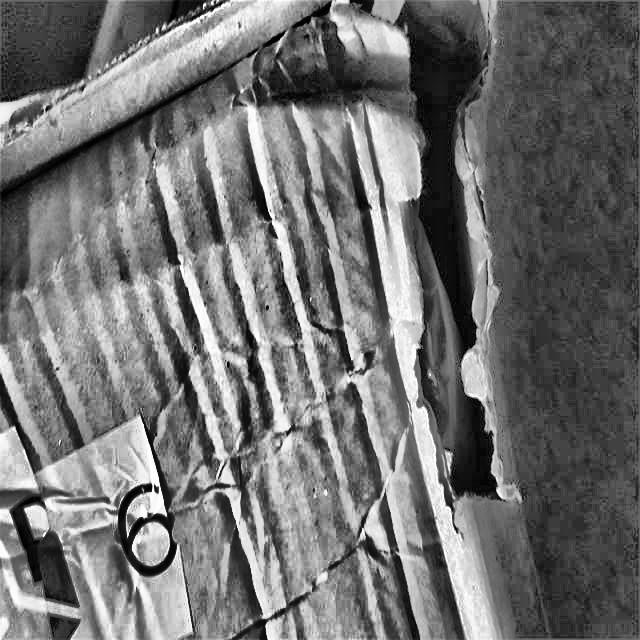box: (2, 1, 531, 640)
hole: (341, 21, 529, 539)
